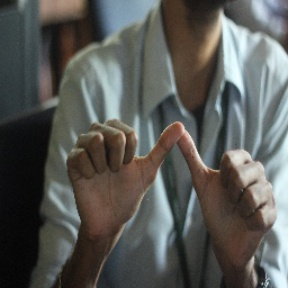A: (76, 114, 275, 239)
